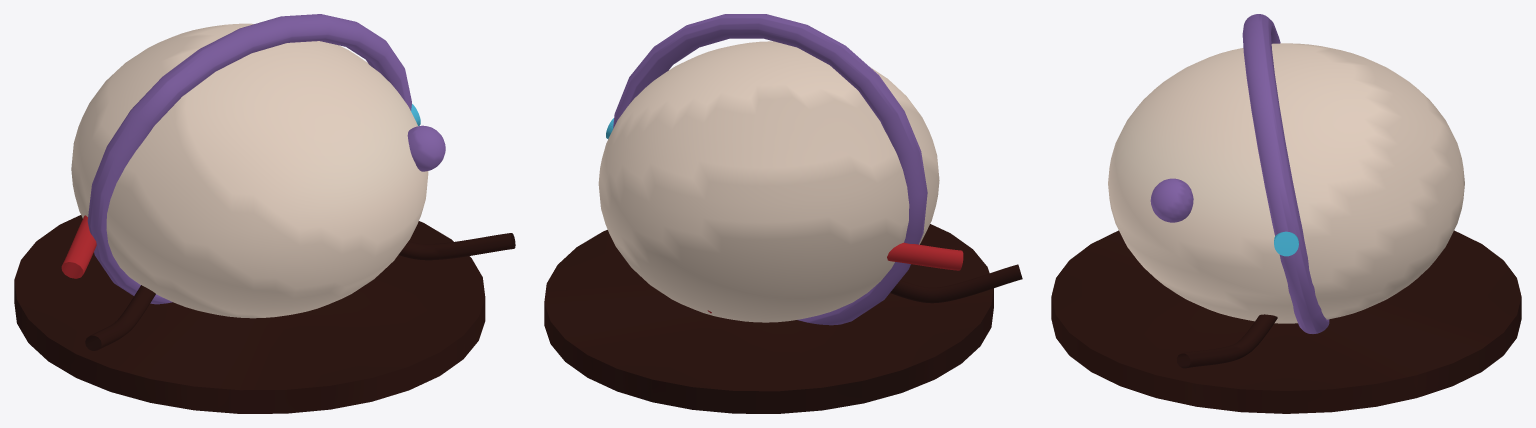
The model's file is 1222_细胞图鉴_基粒.glb.
3 renders of one model, left to right at view 1: azimuth 30°, elevation 25°; view 2: azimuth 150°, elevation 25°; view 3: azimuth 270°, elevation 25°, orthographic. The views are drawn at different scales.
Parts seen in each view (by area): view 1: card_1222; view 2: card_1222; view 3: card_1222.
Part boxes in pixels (<box>): card_1222: <box>14,14,515,413</box>; card_1222: <box>544,14,1022,413</box>; card_1222: <box>1051,14,1521,413</box>.
Size of the model in its own units: 1.5 by 1 by 1.48.
